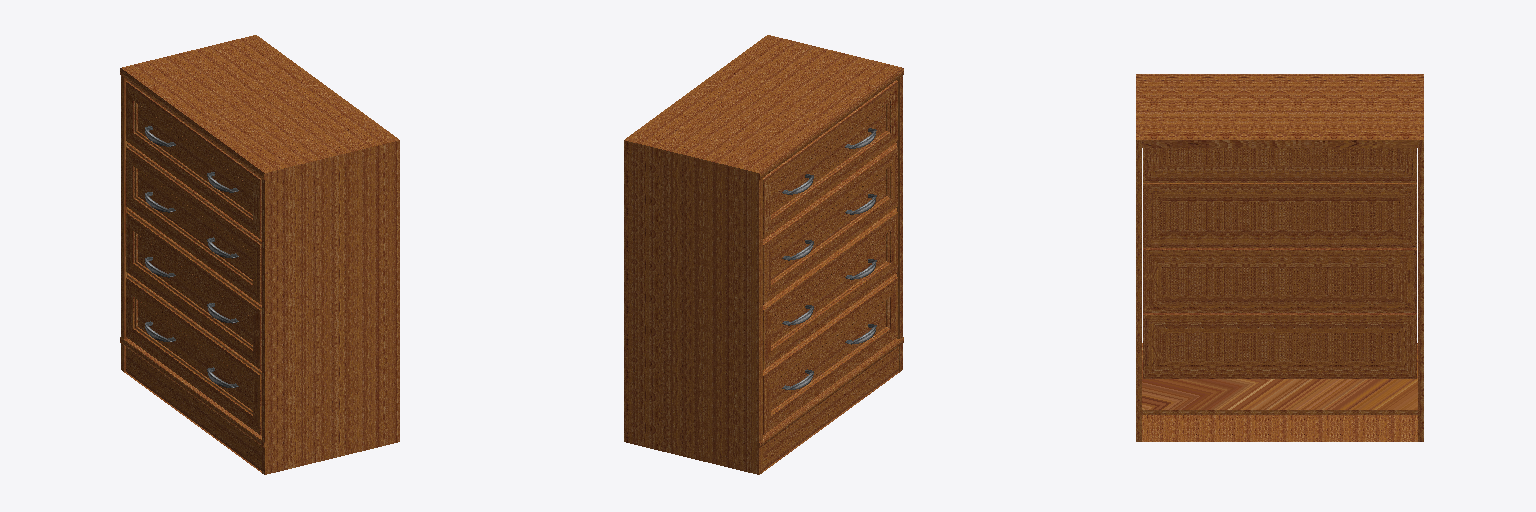
The picture shows the model from 3 angles: view 1: azimuth 30°, elevation 25°; view 2: azimuth 150°, elevation 25°; view 3: azimuth 270°, elevation 25°; orthographic projection.
Parts seen in each view (by area): view 1: madera, mano; view 2: madera, mano; view 3: madera.
Boxes of the visible parts, x1=… form: madera: x1=120, y1=35, x2=399, y2=474; mano: x1=145, y1=126, x2=238, y2=387; madera: x1=624, y1=35, x2=903, y2=474; mano: x1=782, y1=128, x2=876, y2=389; madera: x1=1136, y1=74, x2=1423, y2=441.
Bounding box in the file's own units: 46.37 × 92.5 × 80.
2 materials, 2 textured.